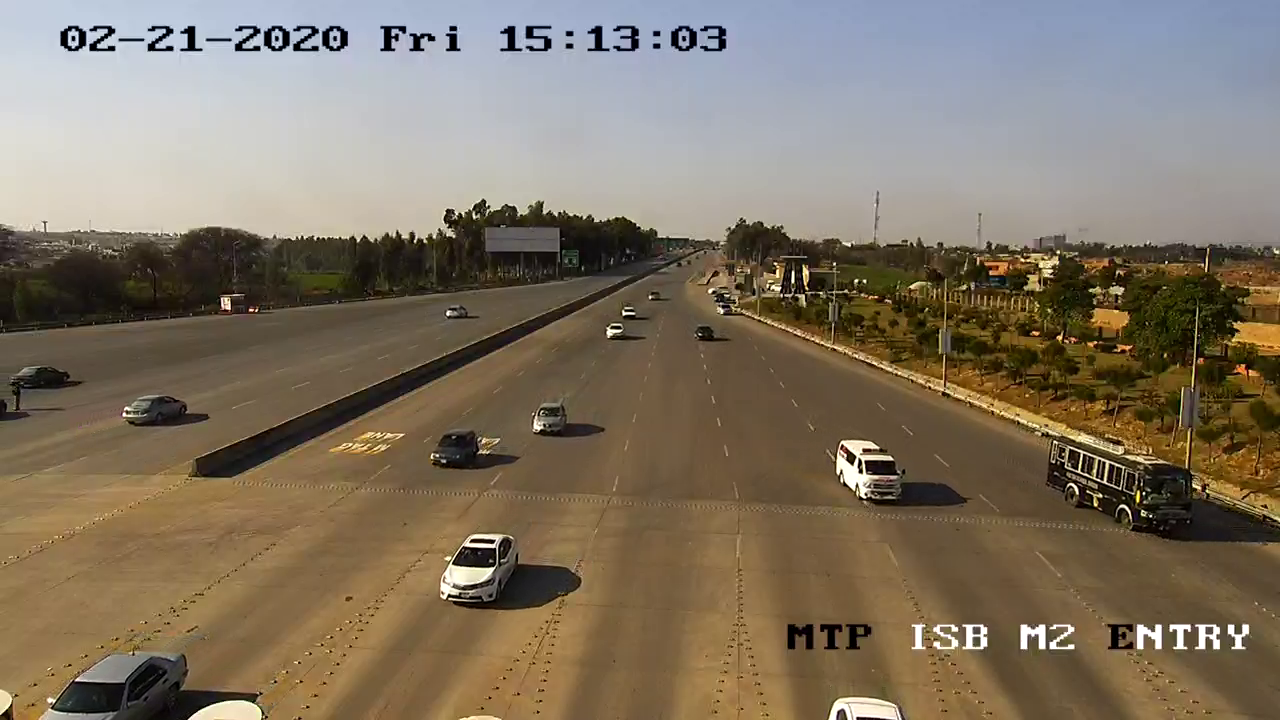f1: (436, 526, 532, 612), (423, 424, 486, 473), (528, 397, 572, 443)
f2: (831, 434, 910, 506)
f4: (1043, 423, 1207, 538)
